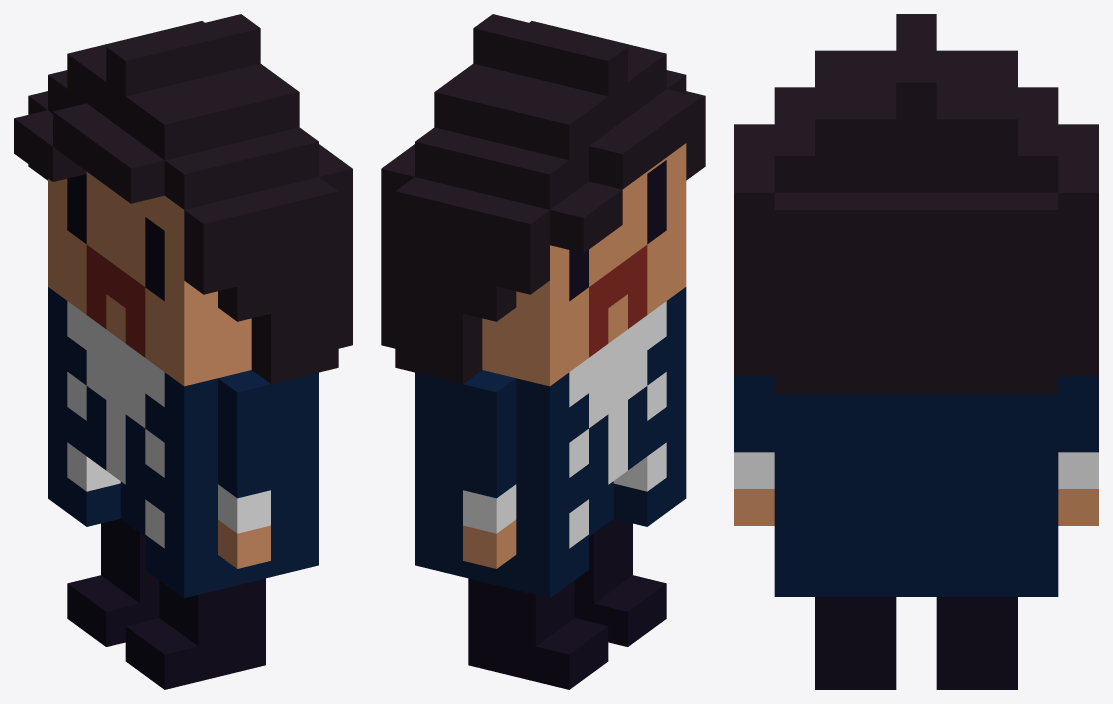
Rendered from Char13.obj.
3 views of the same model, side by side, from view 1: azimuth 30°, elevation 25°; view 2: azimuth 150°, elevation 25°; view 3: azimuth 270°, elevation 25° (orthographic). The views are drawn at different scales.
Size of the model in its own units: 0.6 by 1.7 by 0.9.
Materials: 1 (1 with a texture image).
